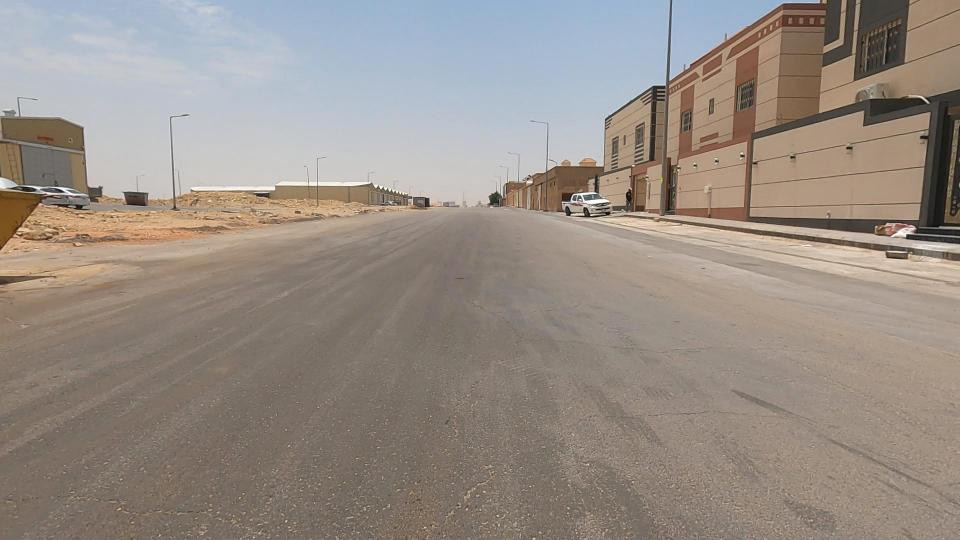GARBAGE: (848, 203, 930, 247)
